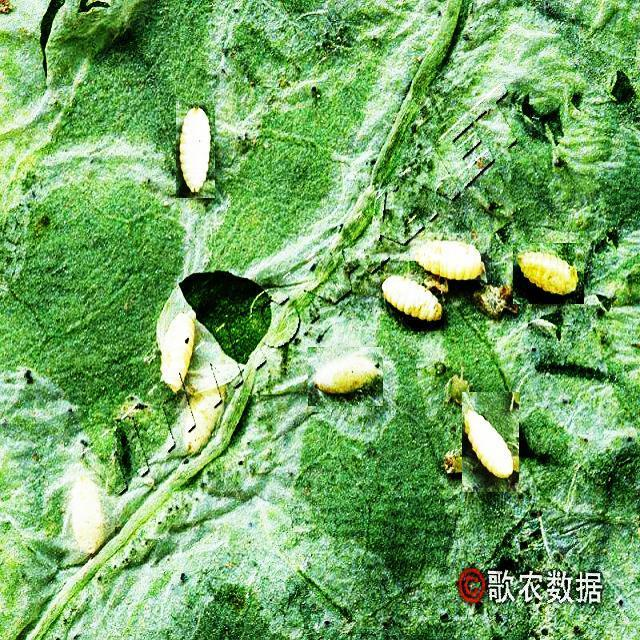whorl-maggot: (462, 393, 519, 493), (63, 464, 115, 564), (308, 348, 383, 408), (381, 261, 444, 331), (513, 243, 584, 304), (176, 102, 215, 200), (410, 233, 491, 280)
